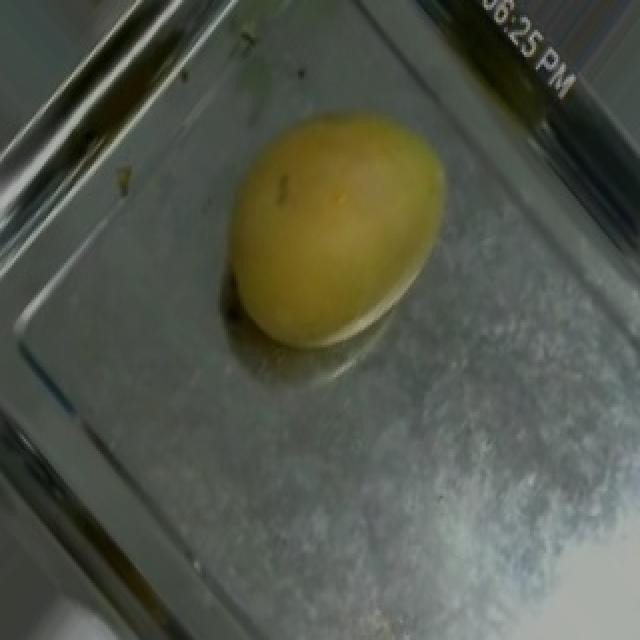fruit: (170, 59, 510, 397)
